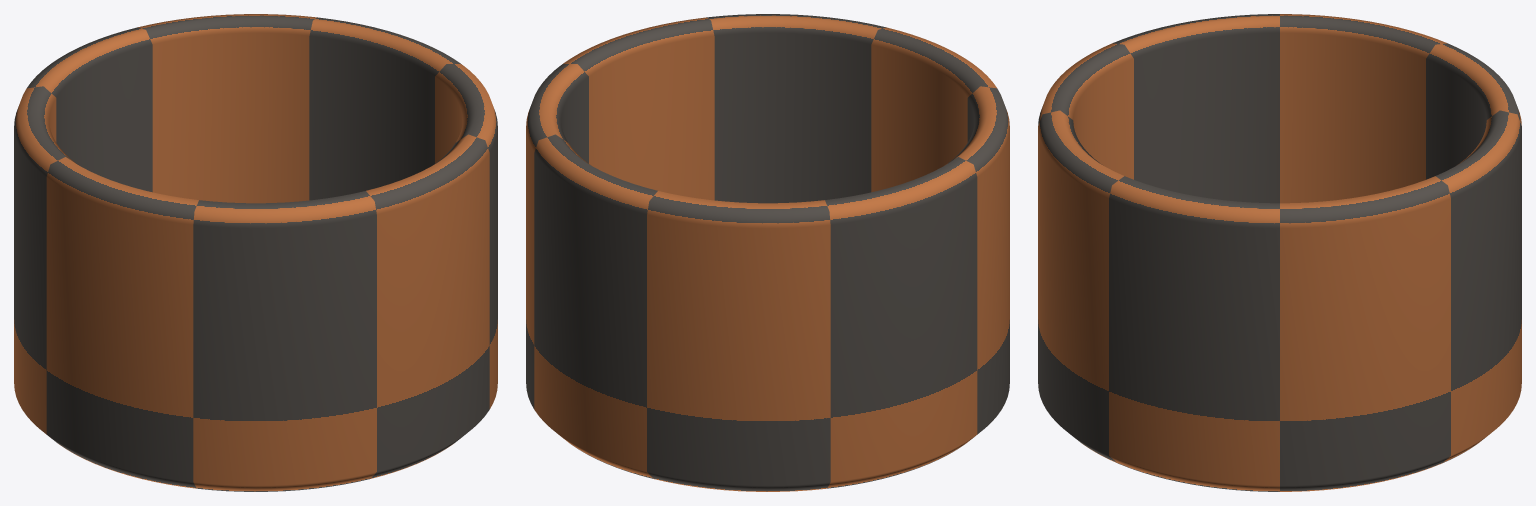
File: vessel.obj
The picture shows the model from 3 angles, left to right: view 1: azimuth 30°, elevation 25°; view 2: azimuth 150°, elevation 25°; view 3: azimuth 270°, elevation 25°; orthographic projection.
Visible parts, largest first — view 1: vessel; view 2: vessel; view 3: vessel.
Boxes of the visible parts, bbox=[...] form: vessel: bbox=[14, 14, 497, 491]; vessel: bbox=[526, 14, 1009, 491]; vessel: bbox=[1038, 14, 1521, 491].
Size of the model in its own units: 2.2 by 1.43 by 2.2.
Materials: 1 (1 with a texture image).
